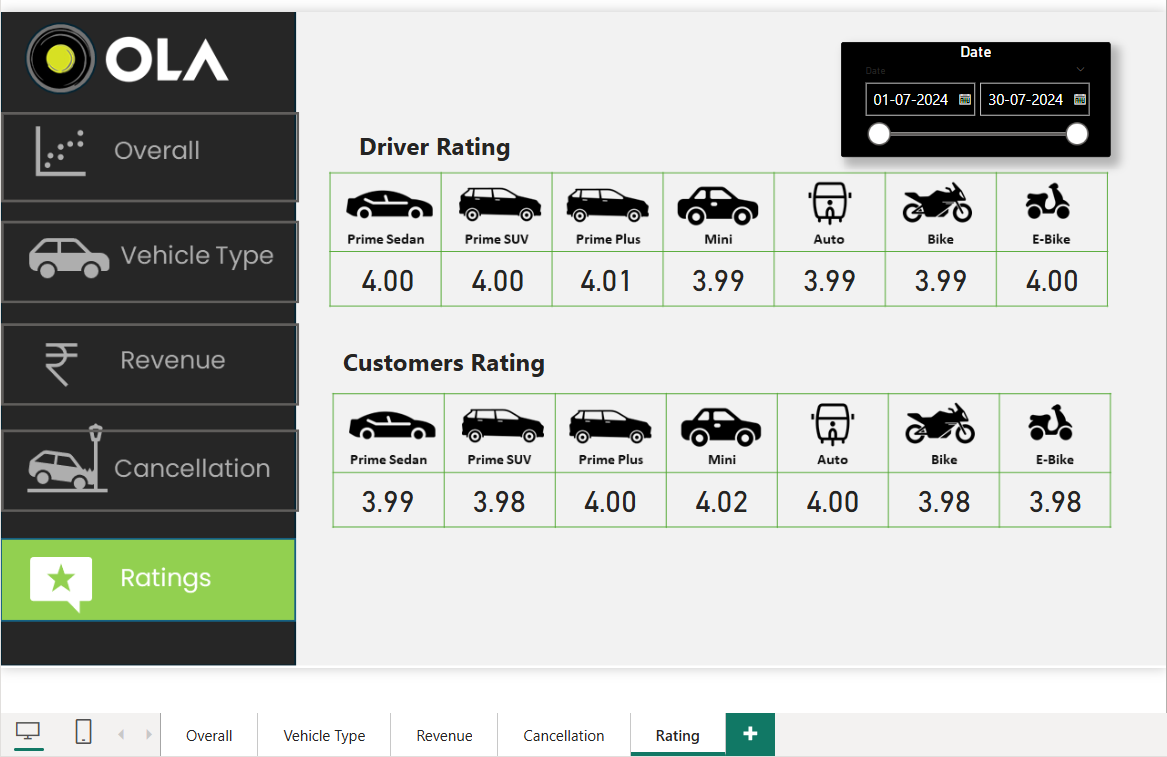

Layout of this report page (visuals, bound fields, positions):
{"tool":"powerbi","page":{"name":"Rating","canvas":[1280,720],"ordinal":4},"visuals":[{"type":"actionButton","box":[0,229.6,327.4,90.7],"z":0},{"type":"actionButton","box":[0,341.6,327.4,90.7],"z":1000},{"type":"actionButton","box":[0,457.8,327.4,90.7],"z":2000},{"type":"actionButton","box":[0,109.1,327.4,99.2],"z":3000},{"type":"card","fields":{"Values":["Avg(Booking.Driver_Ratings)"]},"box":[363.6,264.8,122.1,54.9],"z":4000},{"type":"card","fields":{"Values":["Avg(Booking.Driver_Ratings)"]},"box":[485.8,264.8,119.4,54.9],"z":5000},{"type":"card","fields":{"Values":["Avg(Booking.Driver_Ratings)"]},"box":[605.1,264.8,119.4,54.9],"z":6000},{"type":"card","fields":{"Values":["Avg(Booking.Driver_Ratings)"]},"box":[724.5,264.8,126.2,54.9],"z":7000},{"type":"card","fields":{"Values":["Avg(Booking.Driver_Ratings)"]},"box":[850.8,264.8,118,54.9],"z":8000},{"type":"card","fields":{"Values":["Avg(Booking.Driver_Ratings)"]},"box":[968.8,264.8,126.2,54.9],"z":9000},{"type":"card","fields":{"Values":["Avg(Booking.Driver_Ratings)"]},"box":[1095,264.8,118,54.9],"z":10000},{"type":"card","fields":{"Values":["Avg(Booking.Customer_Rating)"]},"box":[363.6,503.6,122.1,63.1],"z":11000},{"type":"card","fields":{"Values":["Avg(Booking.Customer_Rating)"]},"box":[485.8,503.6,122.1,63.1],"z":12000},{"type":"card","fields":{"Values":["Avg(Booking.Customer_Rating)"]},"box":[607.9,503.6,122.1,63.1],"z":13000},{"type":"card","fields":{"Values":["Avg(Booking.Customer_Rating)"]},"box":[730,503.6,122.1,63.1],"z":14000},{"type":"card","fields":{"Values":["Avg(Booking.Customer_Rating)"]},"box":[852.1,503.6,122.1,63.1],"z":15000},{"type":"card","fields":{"Values":["Avg(Booking.Customer_Rating)"]},"box":[974.3,503.6,122.1,63.1],"z":16000},{"type":"card","fields":{"Values":["Avg(Booking.Customer_Rating)"]},"box":[1096.4,503.6,122.1,63.1],"z":17000},{"type":"textbox","box":[363.6,123.5,225,50.8],"z":18000},{"type":"textbox","box":[363.6,360.9,245.6,52.1],"z":19000},{"type":"slicer","title":"Date","fields":{"Values":["Booking.Date"]},"box":[922.1,32.9,296.4,126.2],"z":20000}]}

Visuals, with their boxes on the page's 1280x720 design canvas (x1, y1, x2, y2). These are canvas units, not pixel positions in the 1167x757 screenshot, which may show the page scaled, cropped or inside an application window:
actionButton: [x1=0, y1=230, x2=327, y2=320]
actionButton: [x1=0, y1=342, x2=327, y2=432]
actionButton: [x1=0, y1=458, x2=327, y2=548]
actionButton: [x1=0, y1=109, x2=327, y2=208]
card - Avg(Booking.Driver_Ratings): [x1=364, y1=265, x2=486, y2=320]
card - Avg(Booking.Driver_Ratings): [x1=486, y1=265, x2=605, y2=320]
card - Avg(Booking.Driver_Ratings): [x1=605, y1=265, x2=724, y2=320]
card - Avg(Booking.Driver_Ratings): [x1=724, y1=265, x2=851, y2=320]
card - Avg(Booking.Driver_Ratings): [x1=851, y1=265, x2=969, y2=320]
card - Avg(Booking.Driver_Ratings): [x1=969, y1=265, x2=1095, y2=320]
card - Avg(Booking.Driver_Ratings): [x1=1095, y1=265, x2=1213, y2=320]
card - Avg(Booking.Customer_Rating): [x1=364, y1=504, x2=486, y2=567]
card - Avg(Booking.Customer_Rating): [x1=486, y1=504, x2=608, y2=567]
card - Avg(Booking.Customer_Rating): [x1=608, y1=504, x2=730, y2=567]
card - Avg(Booking.Customer_Rating): [x1=730, y1=504, x2=852, y2=567]
card - Avg(Booking.Customer_Rating): [x1=852, y1=504, x2=974, y2=567]
card - Avg(Booking.Customer_Rating): [x1=974, y1=504, x2=1096, y2=567]
card - Avg(Booking.Customer_Rating): [x1=1096, y1=504, x2=1218, y2=567]
textbox: [x1=364, y1=124, x2=589, y2=174]
textbox: [x1=364, y1=361, x2=609, y2=413]
"Date" slicer: [x1=922, y1=33, x2=1218, y2=159]
